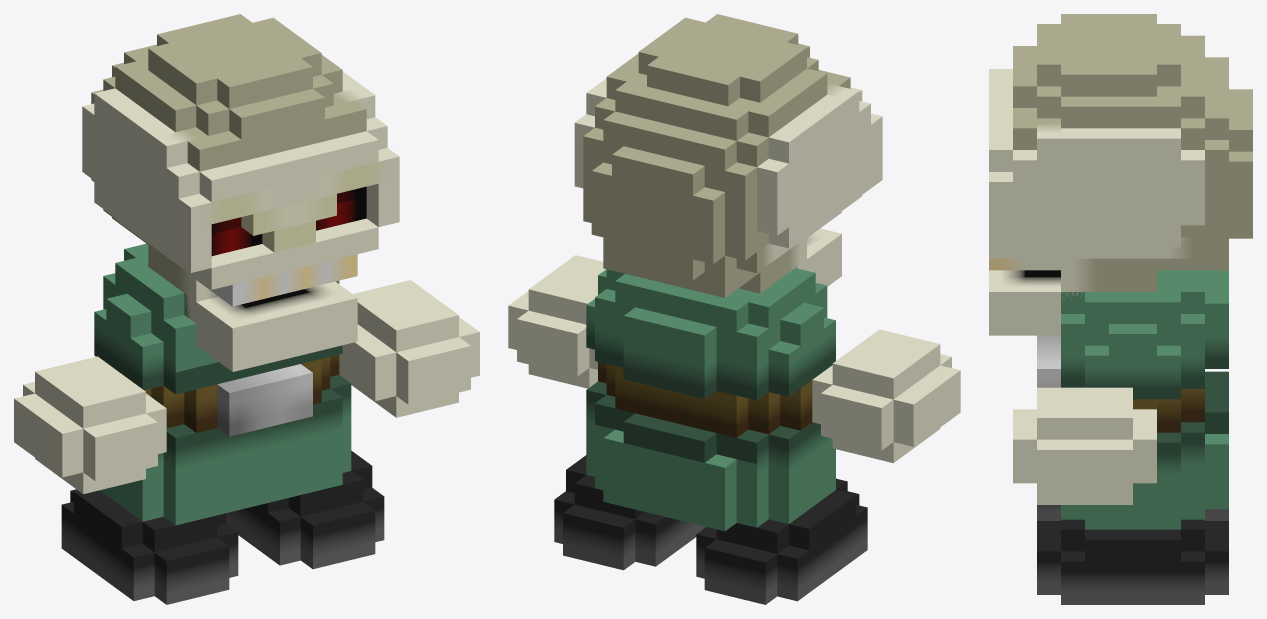
File: Skeleton_Character.fbx
The picture shows the model from 3 angles, left to right: view 1: azimuth 30°, elevation 25°; view 2: azimuth 150°, elevation 25°; view 3: azimuth 270°, elevation 25°; orthographic projection. The views are drawn at different scales.
Visible parts, largest first — view 1: Head, Chest, R_Hand, L_Hand, R_Foot, L_Foot; view 2: Head, Chest, R_Hand, R_Foot, L_Hand, L_Foot; view 3: Head, Chest, L_Foot, L_Hand, R_Foot.
Boxes of the visible parts, x1,y1,x2,y2 form: Head: (82, 14, 399, 371); Chest: (94, 243, 351, 525); R_Hand: (14, 356, 166, 494); L_Hand: (339, 280, 479, 417); R_Foot: (61, 489, 238, 604); L_Foot: (226, 451, 384, 569); Head: (574, 14, 882, 297); Chest: (586, 266, 835, 531); R_Hand: (812, 329, 960, 463); R_Foot: (696, 478, 867, 604); L_Hand: (508, 255, 605, 388); L_Foot: (554, 455, 705, 570); Head: (989, 14, 1252, 335); Chest: (1037, 270, 1228, 529); L_Foot: (1037, 519, 1228, 604); L_Hand: (1013, 387, 1156, 504); R_Foot: (1037, 505, 1228, 520).
Size of the model in its own units: 200 by 230 by 110.
1 material, 1 textured.
